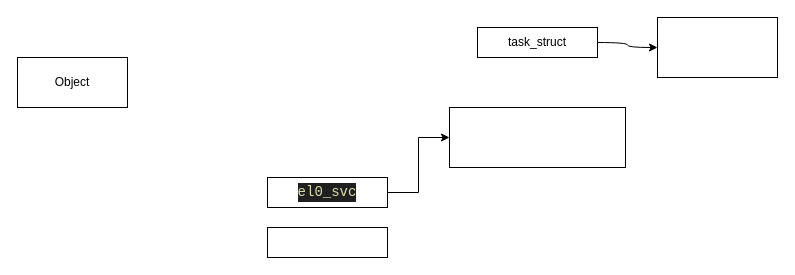
Some shapes in this 795 by 275 pixel diagram are drawn without their labels. Here are the shapes that lost their labels. From the top down, the centre of each, then its label:
At (537,137): "exit_to_user_mode".
At (327,242): "el0_interrupt".
